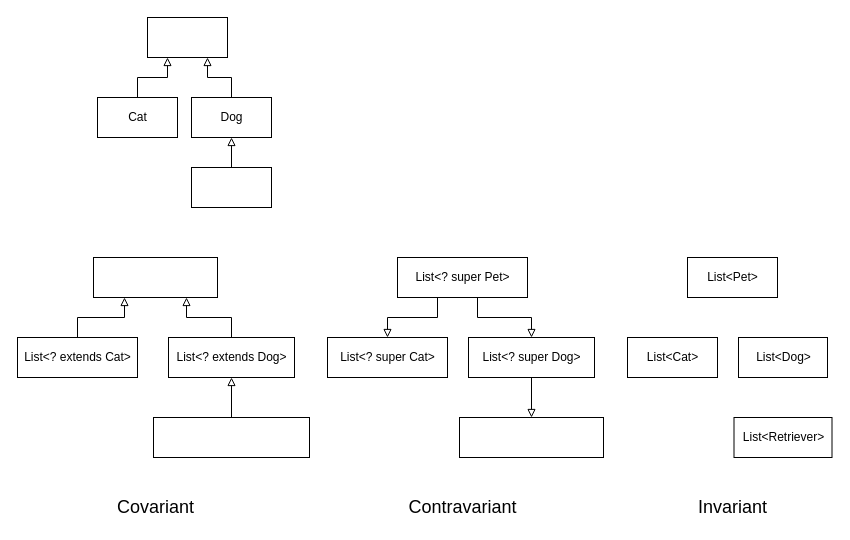
The diagram is 850 pixels wide and 540 high, and some of its shapes have lost their labels. The centre of each missing label's shape, as x and y in pixels:
List<? extends Pet>: the point at 155,277
List<? extends Retriever>: the point at 231,437
List<? super Retriever>: the point at 531,437
Pet: the point at 187,37
Retriever: the point at 231,187
